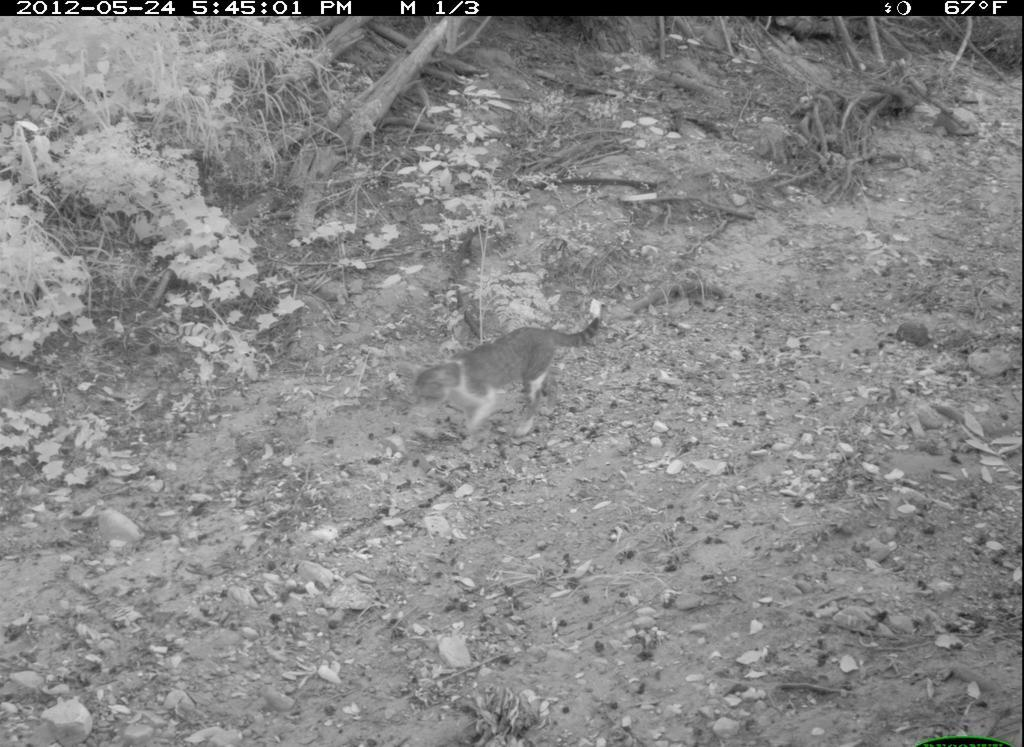cat: (397, 291, 616, 461)
